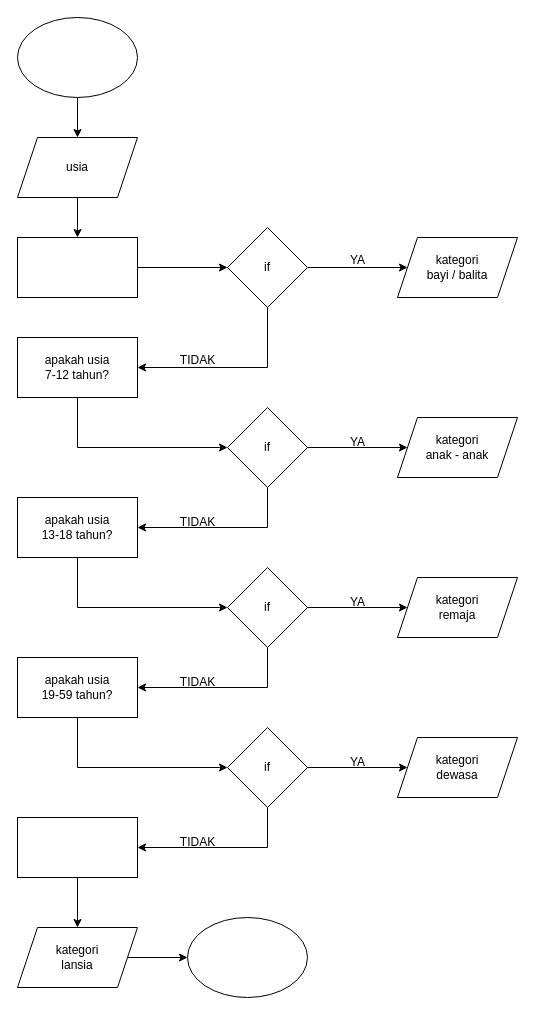
This 535x1015 diagram has some shape labels left out. Each missing label, with the centre of its shape:
apakah usia 0-6 tahun?: [77,267]
apakah usia >=60 tahun?: [77,847]
mulai: [77,57]
selesai: [247,957]
